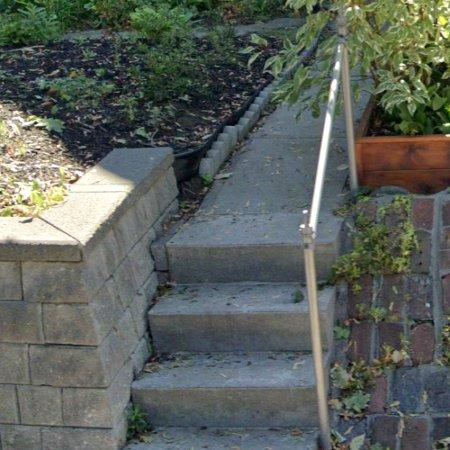stairs: (126, 105, 323, 450), (317, 117, 348, 279)
